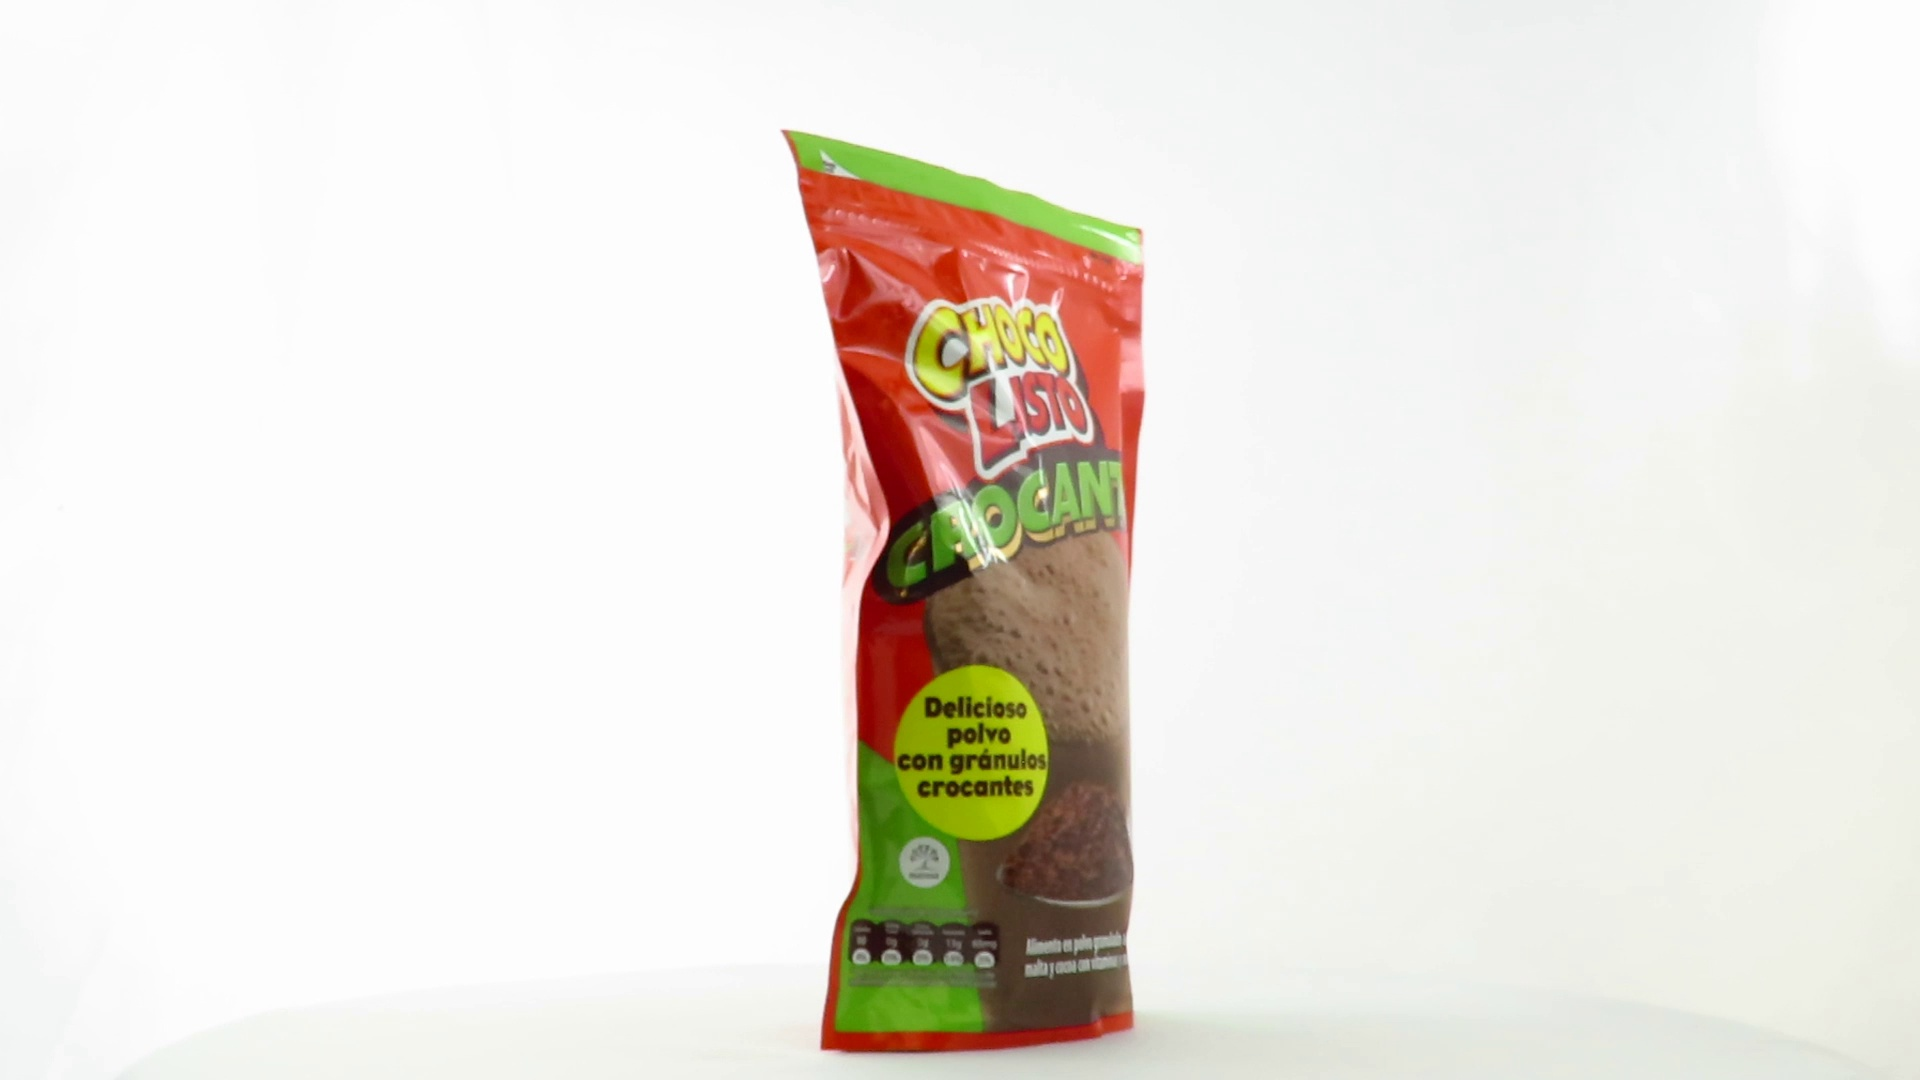COL0170102DYP50000: (775, 124, 1151, 1060)
